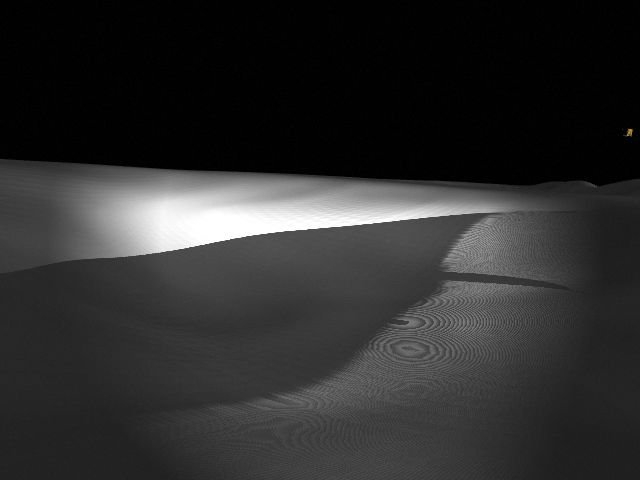cubesat: (621, 125, 635, 140)
